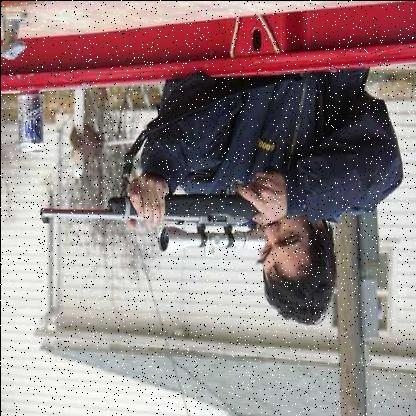rifle: (32, 145, 293, 266)
